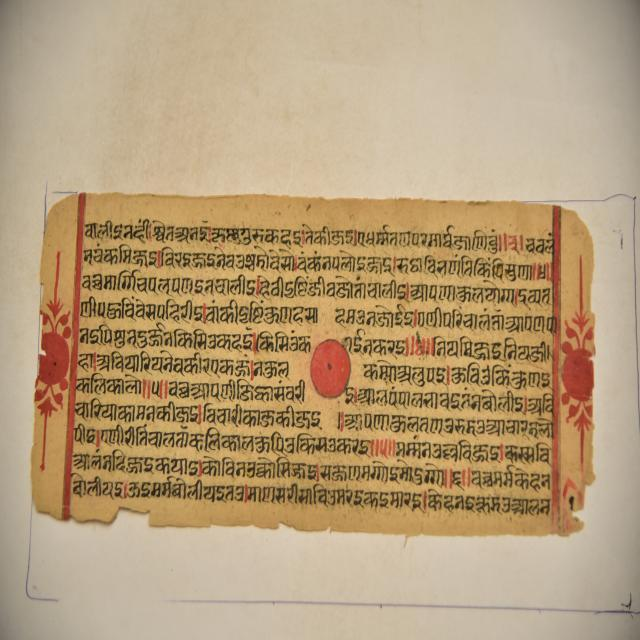text_paragraph: (25, 192, 595, 529)
